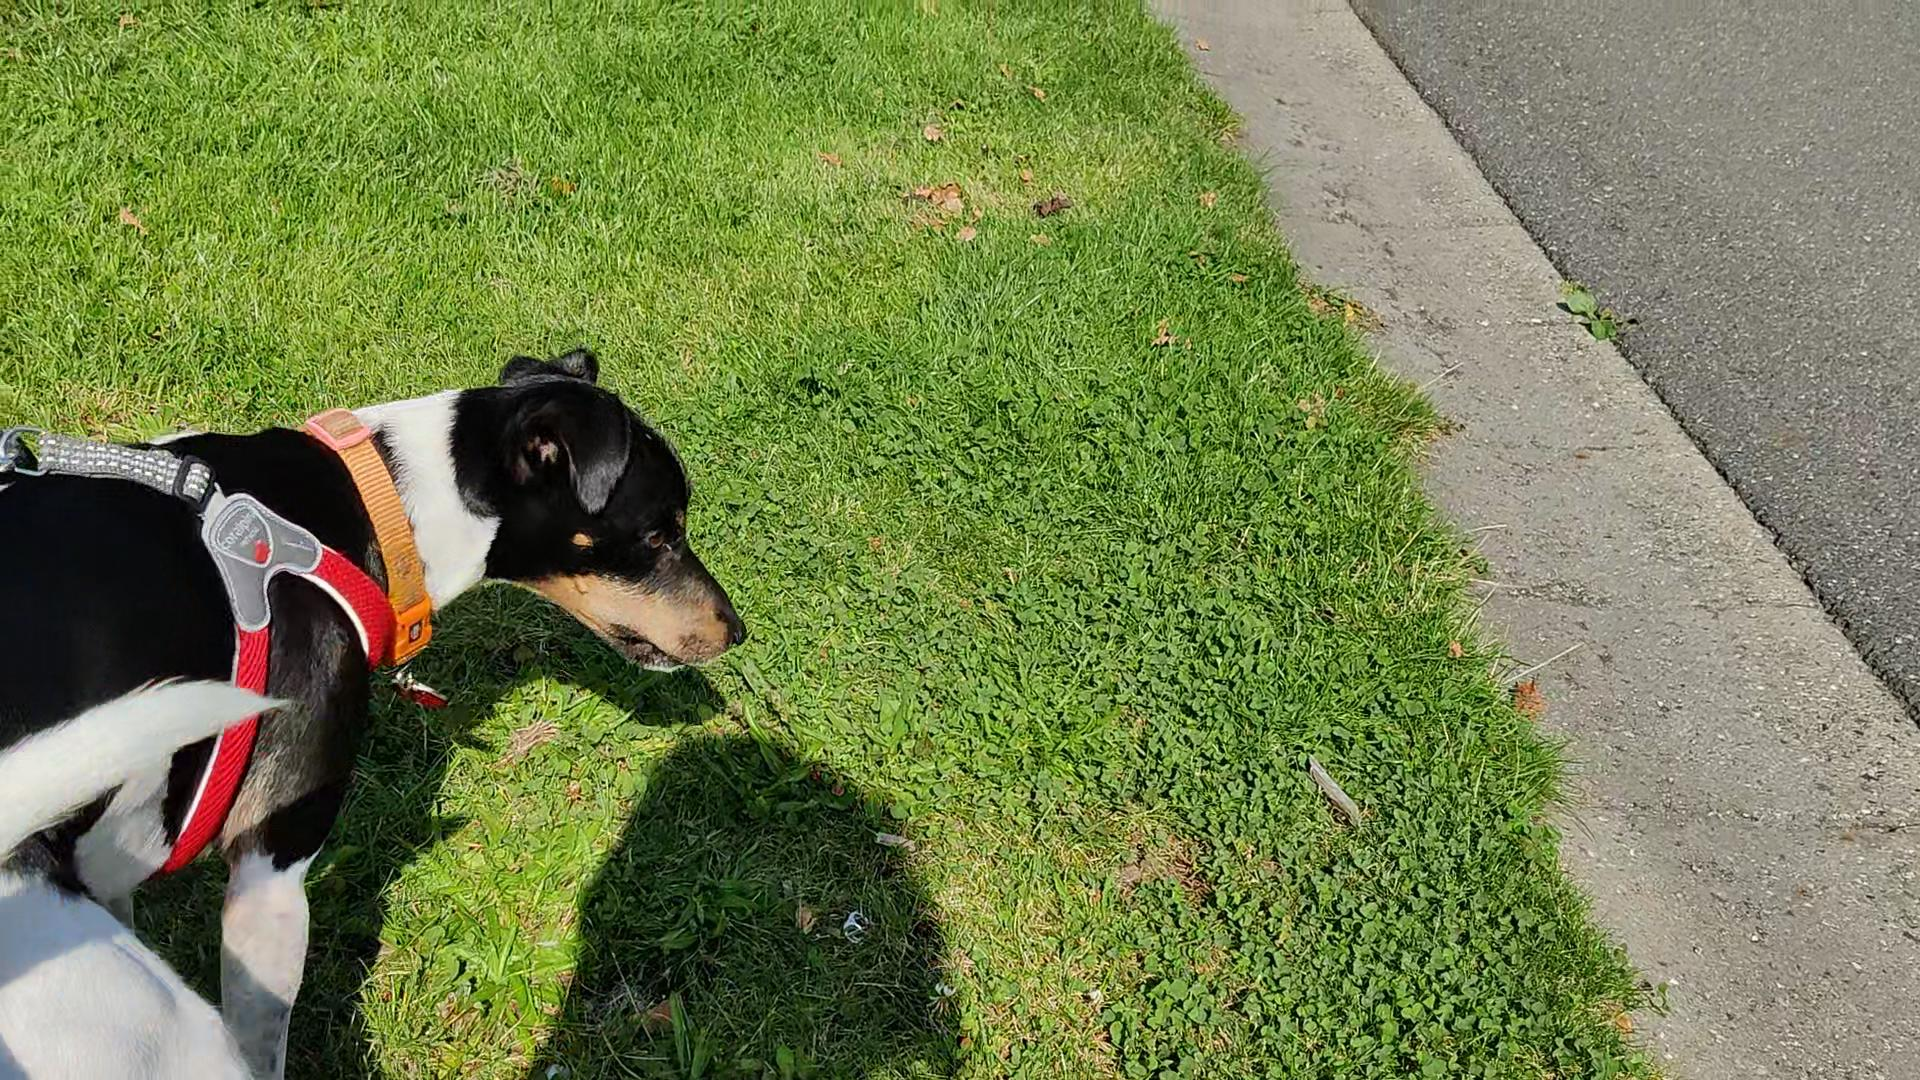Dog: (0, 331, 756, 1079)
